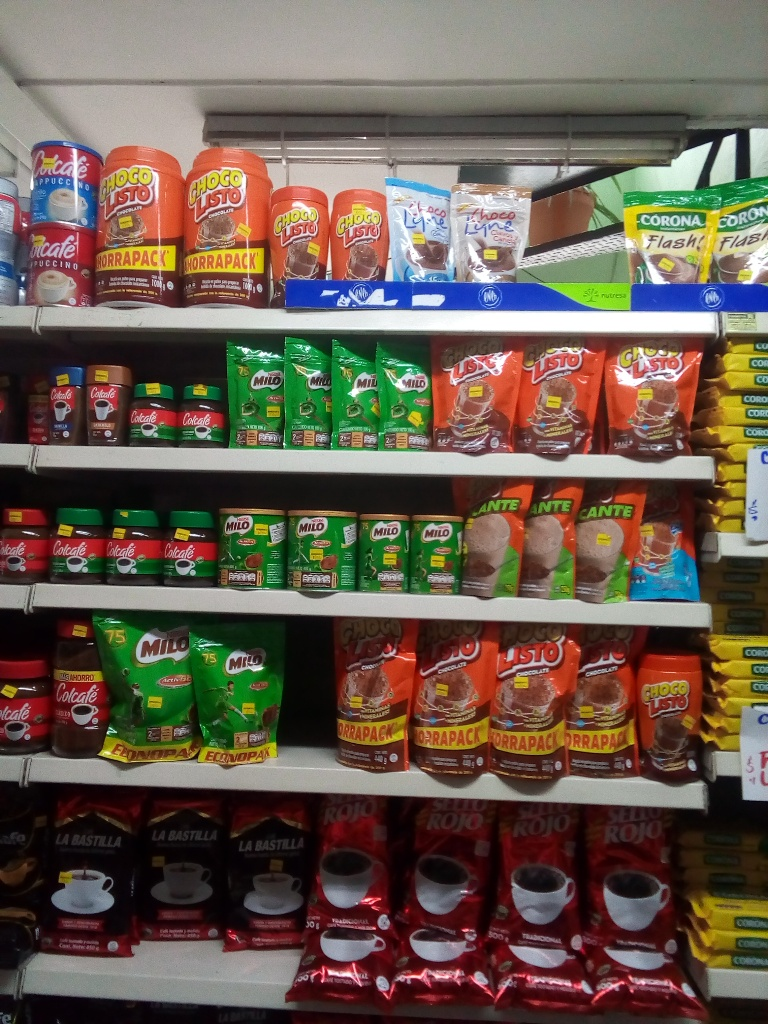COL0170102DYP25000: (451, 474, 531, 597)
COL0170103DYP36000: (428, 335, 516, 453)
COL0170103DYP44000: (326, 613, 412, 770)
COL0170103TRR00100: (90, 137, 179, 305)
COL0170103TRR30000: (269, 182, 331, 310)
COL0170104DYP20000: (633, 484, 701, 604)
COL0170203DYP25000: (224, 336, 284, 447)
COL0170203DYP50000: (91, 613, 203, 771)
COL0170203LAT20000: (358, 512, 412, 594)
COL0170203LAT40000: (217, 504, 286, 589)
